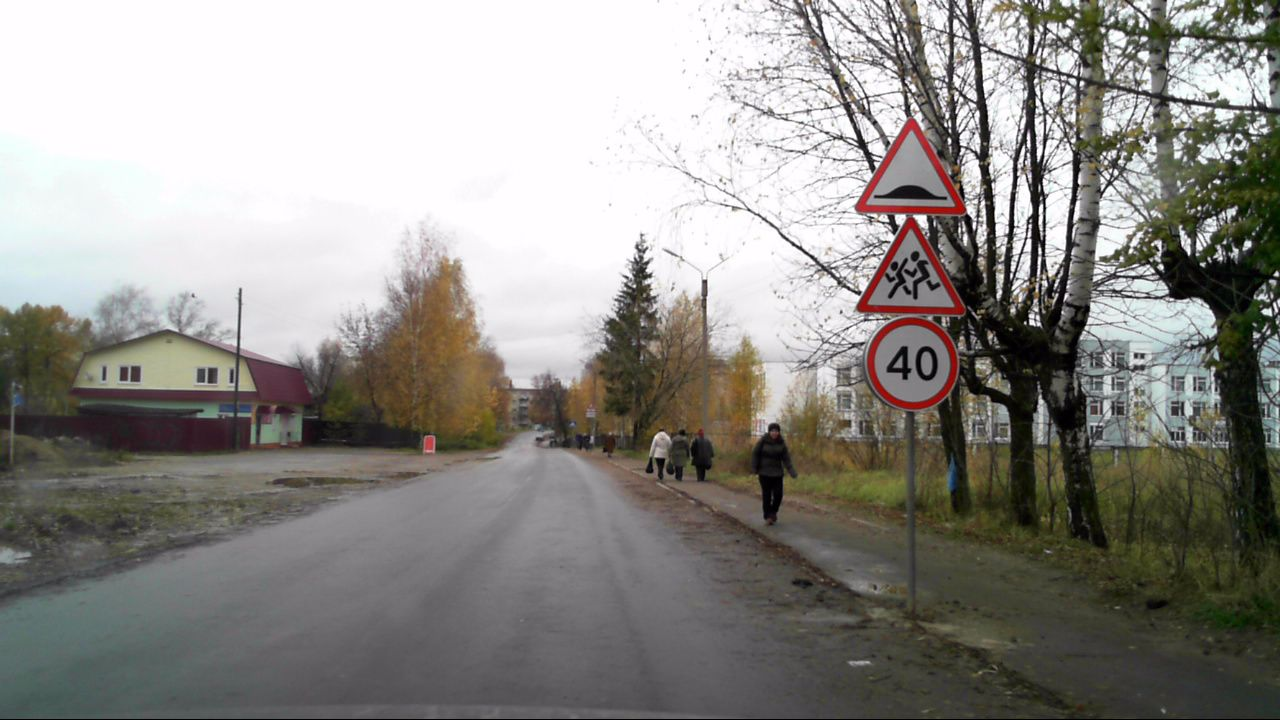speed_warning_40: (862, 316, 960, 410)
